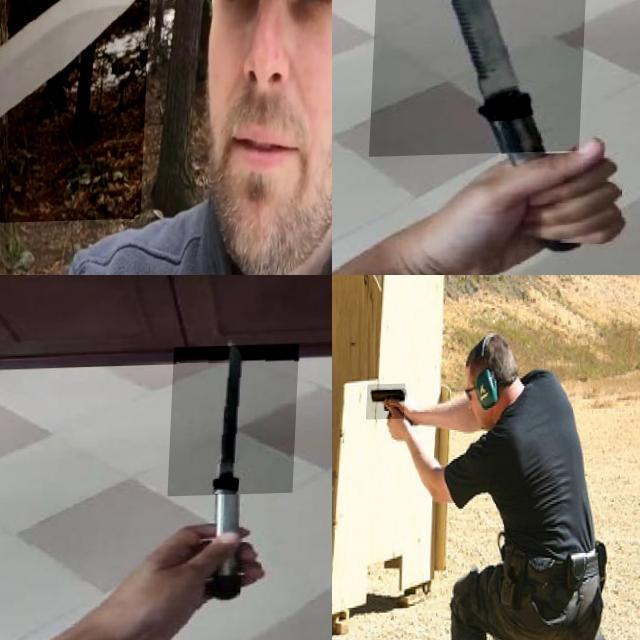-: (0, 0, 155, 228), (373, 0, 594, 158), (171, 346, 301, 498)
gun-knife-thesis - v11 Yolov5 augmented: (368, 386, 408, 422)
